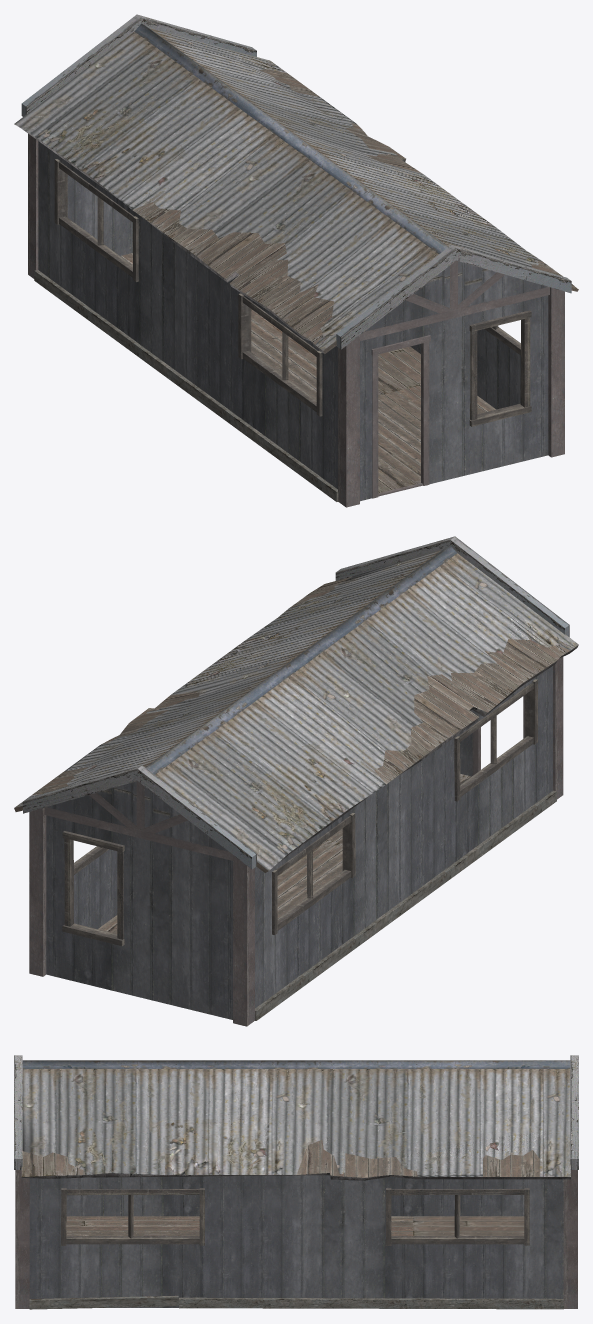
Rendered from Building_LinjgdDj002b_lod1.glb.
The picture shows the model from 3 angles, top to bottom: view 1: azimuth 30°, elevation 25°; view 2: azimuth 150°, elevation 25°; view 3: azimuth 270°, elevation 25°; orthographic projection. The views are drawn at different scales.
Visible parts, largest first — view 1: bmsl_linjgd_dj002b_lod1; view 2: bmsl_linjgd_dj002b_lod1; view 3: bmsl_linjgd_dj002b_lod1.
Boxes of the visible parts, box(x1,y1,x2,y2) form: bmsl_linjgd_dj002b_lod1: box(14, 14, 578, 507); bmsl_linjgd_dj002b_lod1: box(14, 536, 578, 1026); bmsl_linjgd_dj002b_lod1: box(14, 1055, 578, 1309).
Size of the model in its own units: 7.29 by 6.24 by 15.49.
Materials: 1 (1 with a texture image).
